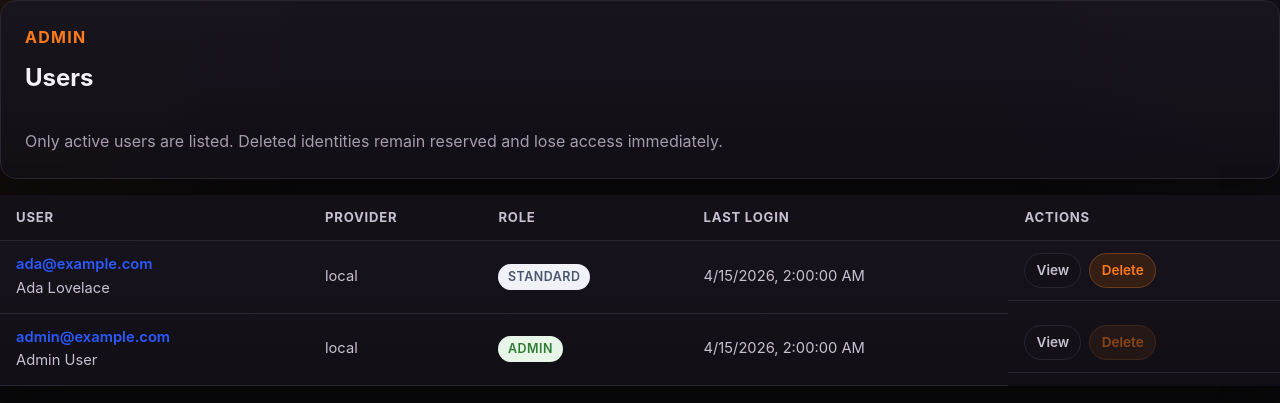
Admin user pages › lists active users and removes a soft-deleted standard user from the table
Expected: the heading "Users" is shown, [25,59,94,97]
Expected: the text "Only active users are listed. Deleted identities remain reserved and lose access immediately." is shown, [25,131,723,151]
Click the button "Delete" in the row of "ada@example.com".
click(1123, 271)  # box [1090,254,1156,288]
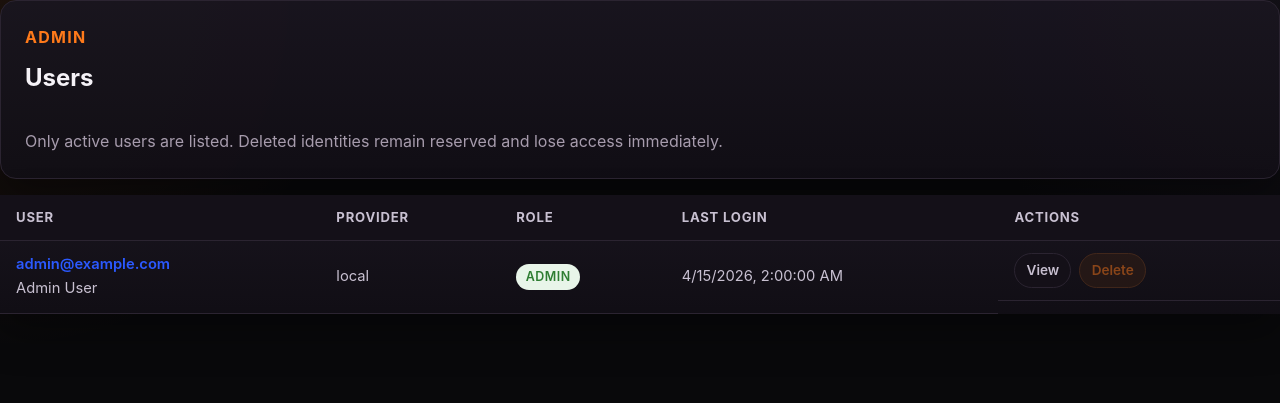
Expected: the link "admin@example.com" is shown, [16,256,170,274]
Expected: the link "ada@example.com" is gone
